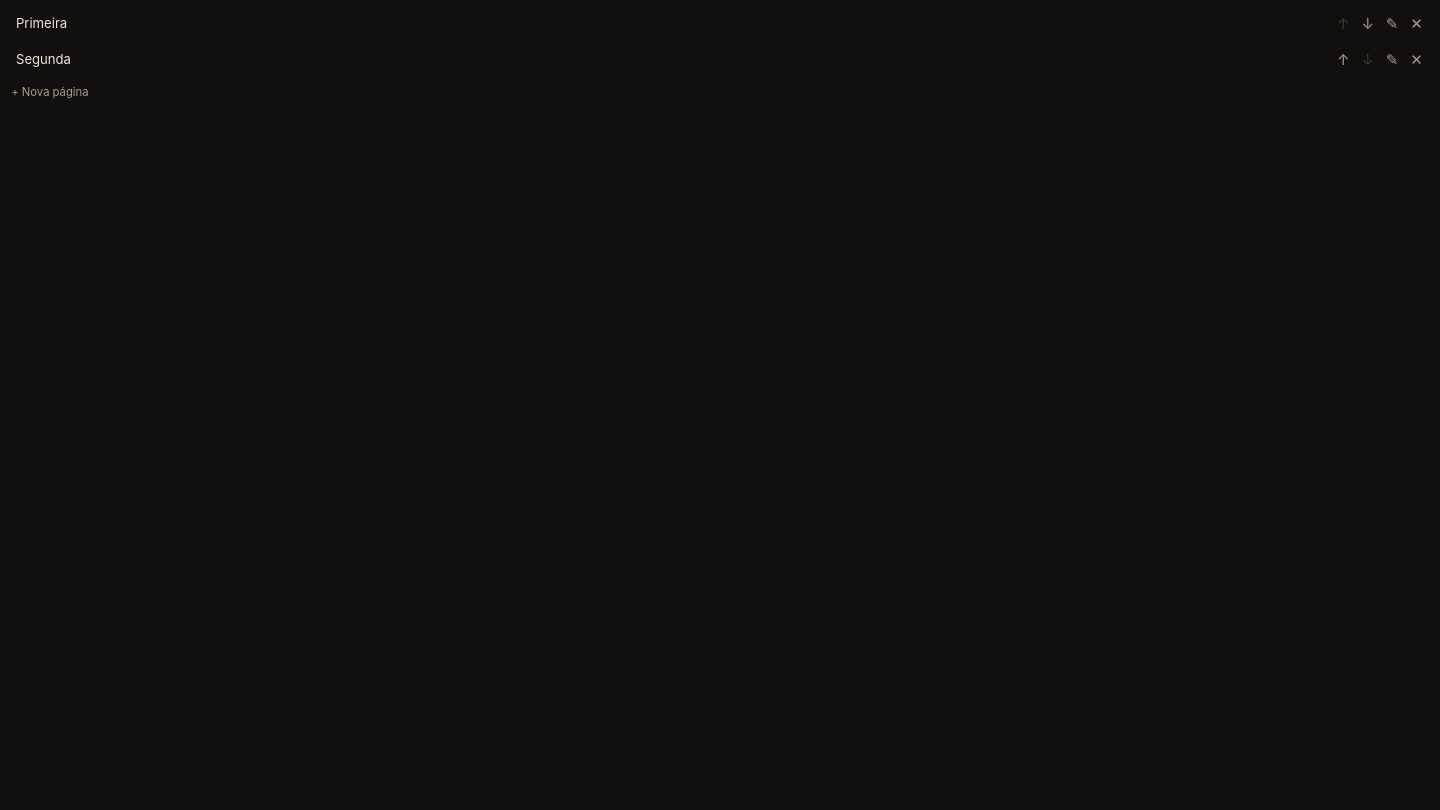
Test: PainelDePaginas › remover age na SEGUNDA de duas páginas, sem tocar na primeira
Check: the button "Primeira" is shown, box [12,12,1328,35]
Step 1. Click the button named "Apagar Segunda" → coordinates (1417, 59), box [1405,48,1428,70]
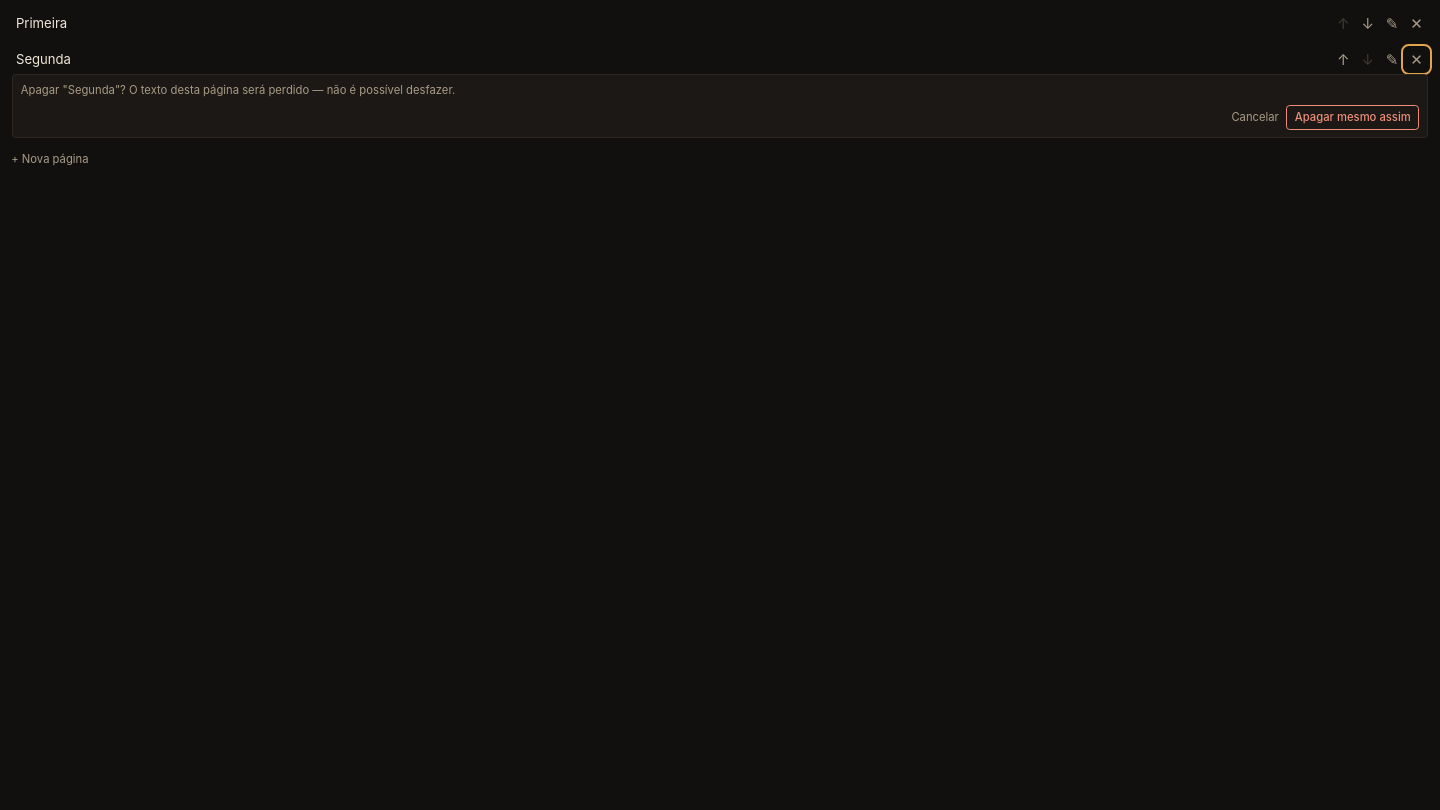
Step 2. Click the button "Apagar mesmo assim" → coordinates (1353, 118), box [1286,105,1419,130]
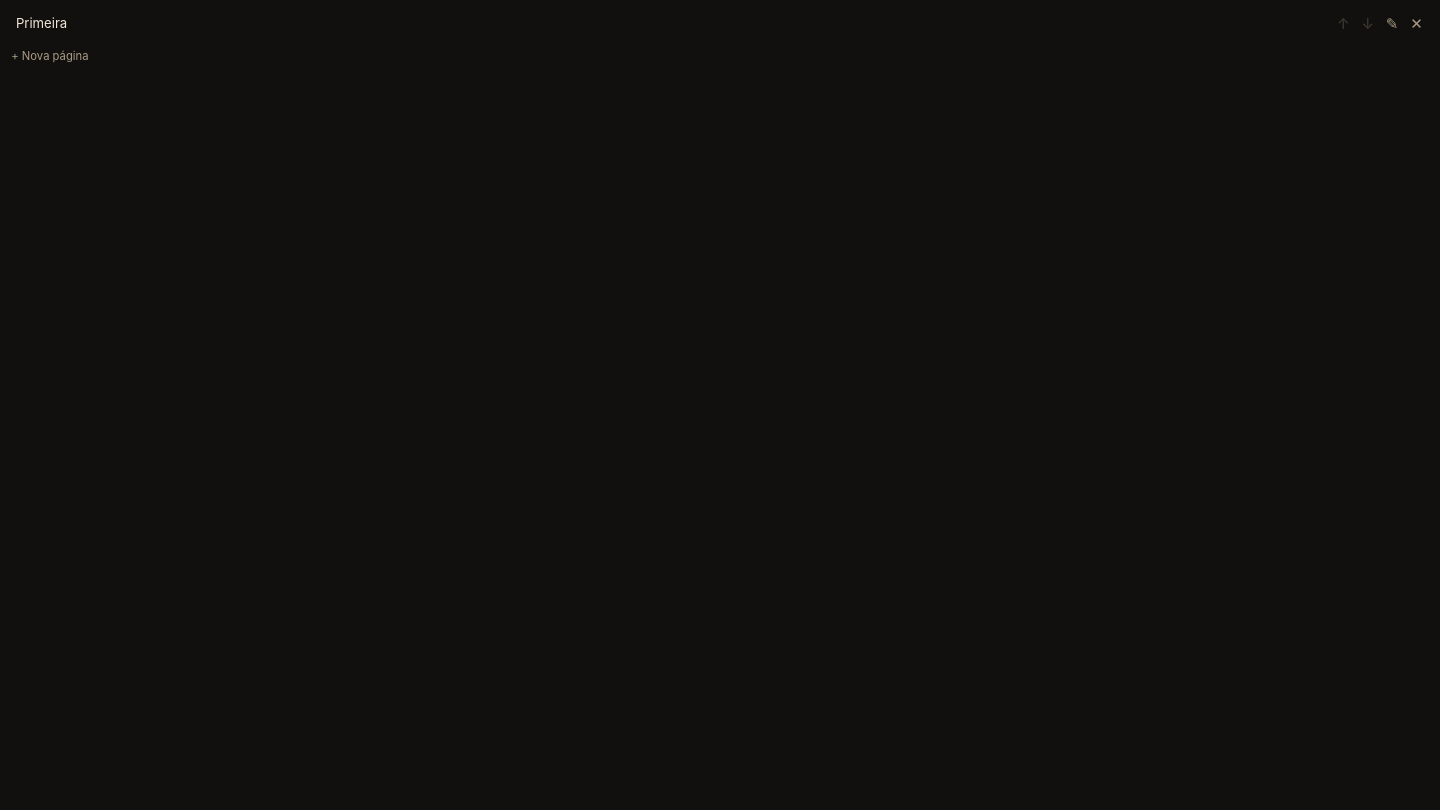
Check: the button "Primeira" is shown, box [12,12,1328,35]
Check: the button "Segunda" is gone
